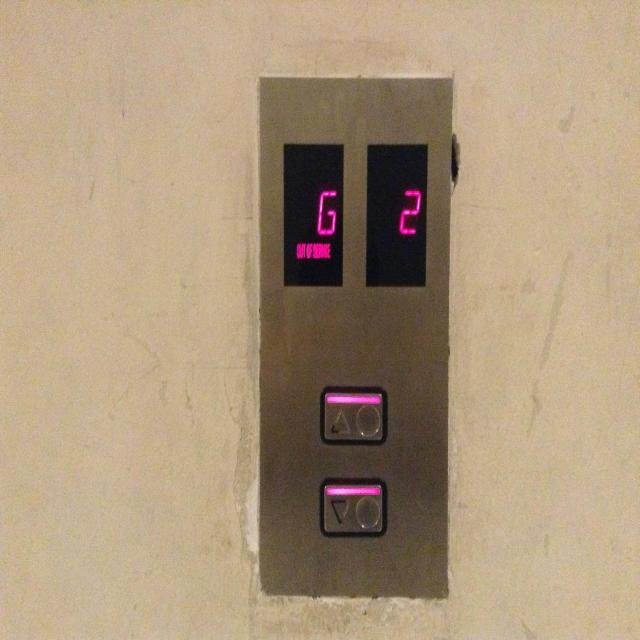down: (318, 478, 386, 539)
led: (364, 143, 427, 290), (282, 142, 345, 288)
up: (320, 388, 387, 446)
